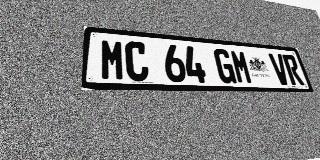4: (182, 46, 207, 83)
6: (163, 44, 187, 82)
C: (125, 41, 149, 81)
G: (213, 48, 237, 84)
M: (100, 39, 125, 81), (230, 50, 254, 84)
R: (282, 54, 305, 85)
V: (268, 53, 291, 85)
